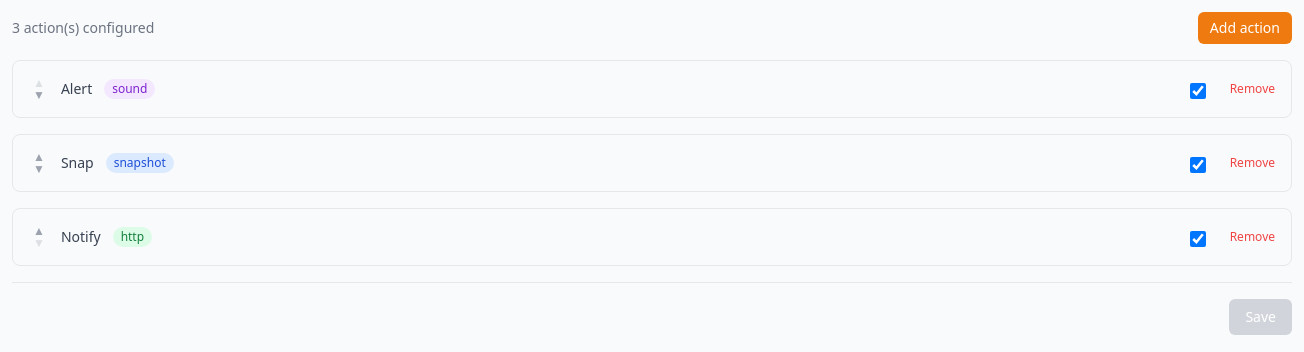
Test: ActionsTab reorder › moves last action up when clicking its up button
Click the button labelled "▲" in the row of "http": (39, 231) 29,225 -> 49,237
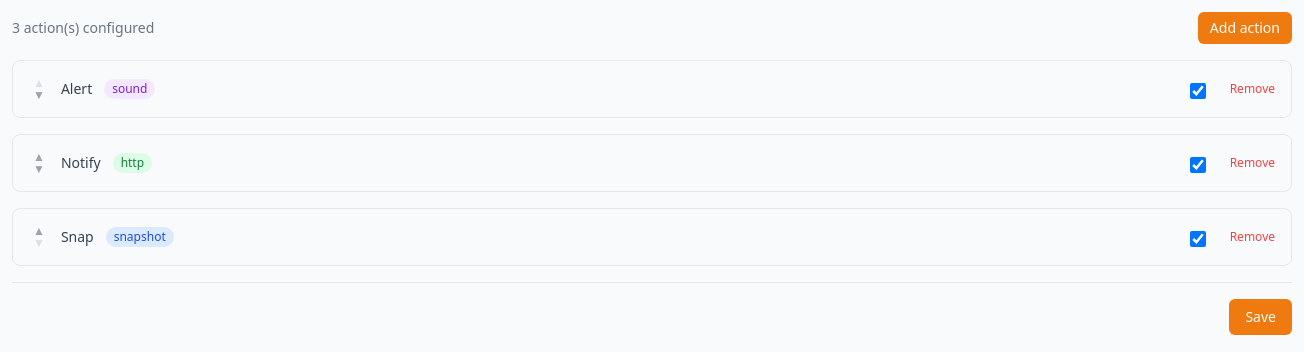
Expected: the button "Alert" is shown, 61,79 -> 92,99
Expected: the button "Notify" is shown, 61,153 -> 101,173
Expected: the button "Snap" is shown, 61,227 -> 94,247
